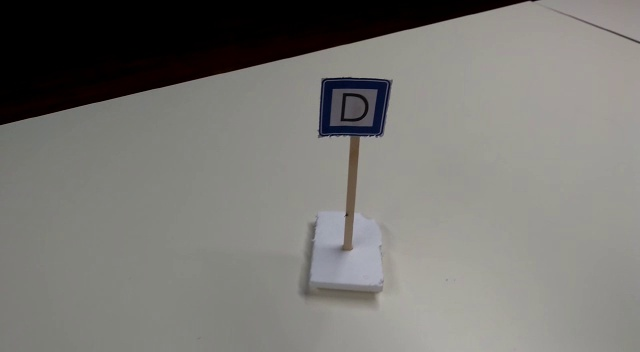durak: (321, 77, 386, 138)
